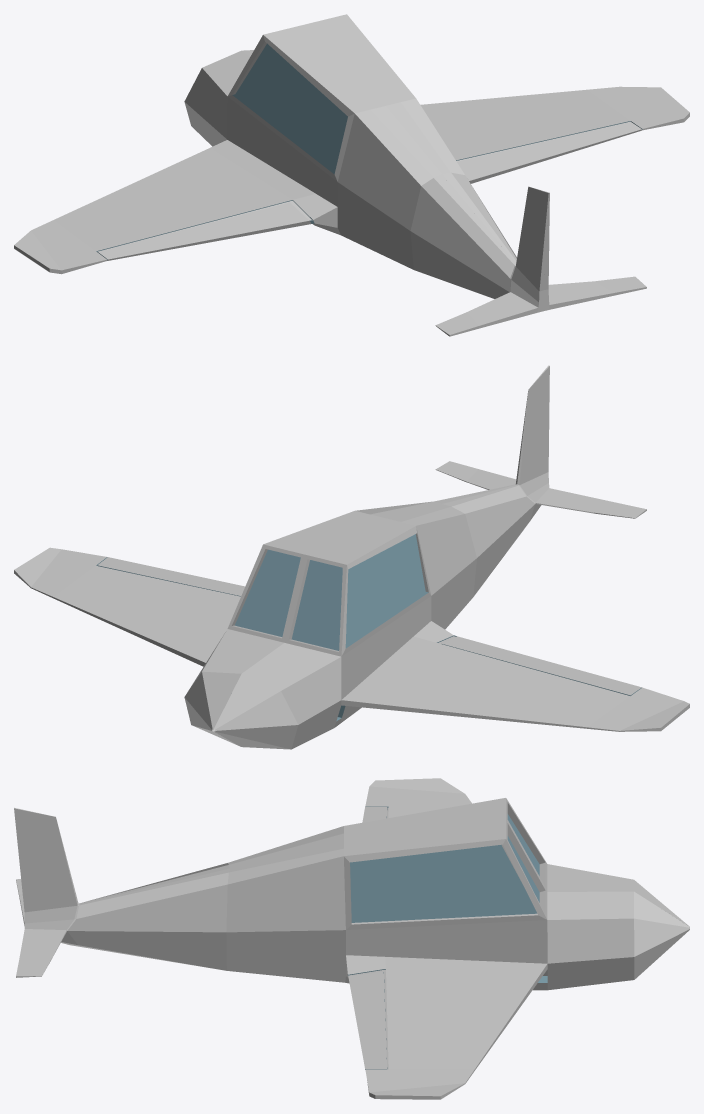
Rendered from simplePlane.obj.
The picture shows the model from 3 angles, top to bottom: view 1: azimuth 30°, elevation 25°; view 2: azimuth 150°, elevation 25°; view 3: azimuth 270°, elevation 25°; orthographic projection.
Visible parts, largest first — view 1: Cube_2; view 2: Cube_2; view 3: Cube_2.
Boxes of the visible parts, x1,y1,x2,y2 form: Cube_2: (14, 14, 689, 336); Cube_2: (14, 365, 689, 749); Cube_2: (14, 778, 689, 1099).
Bounding box in the file's own units: 3 × 0.7586 × 2.69.
